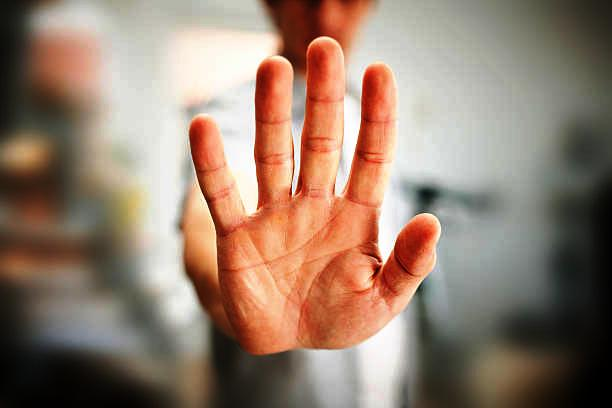Paper: (184, 34, 442, 356)
